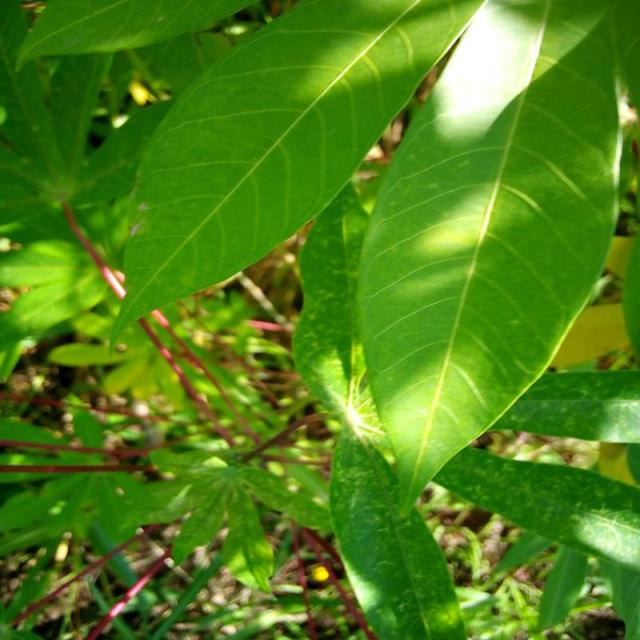cassava leaf: (355, 0, 624, 516), (106, 0, 488, 352)
